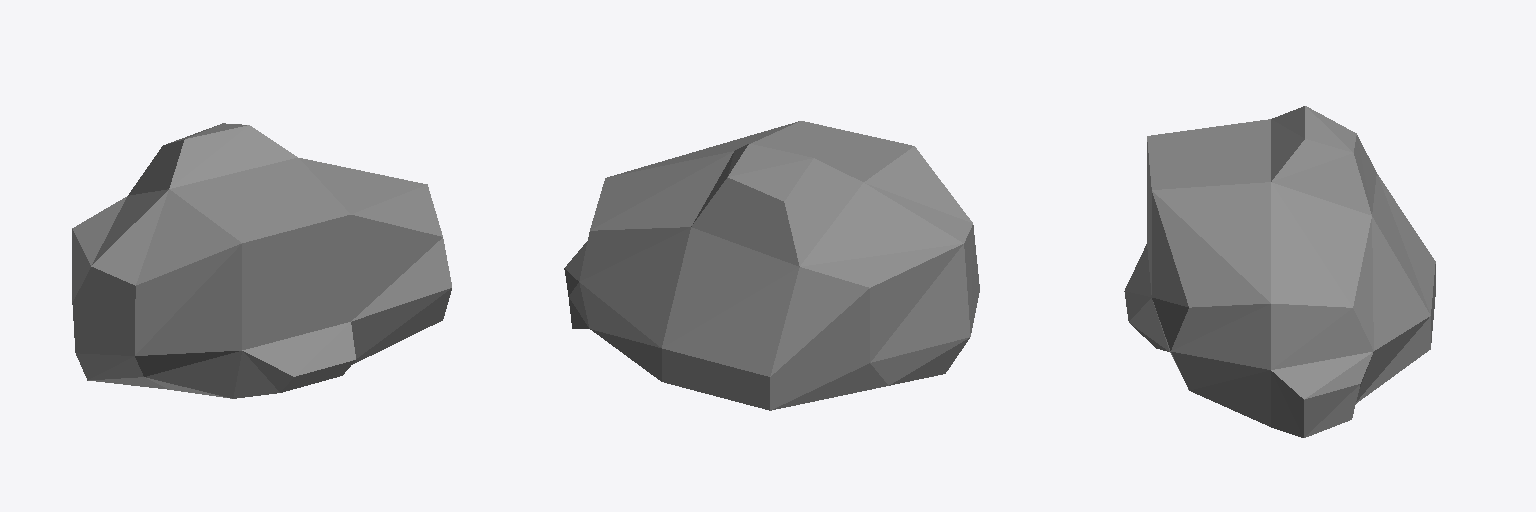
The model's file is asteroid01.obj.
3 renders of one model, left to right at view 1: azimuth 30°, elevation 25°; view 2: azimuth 150°, elevation 25°; view 3: azimuth 270°, elevation 25°, orthographic.
Parts seen in each view (by area): view 1: Box001; view 2: Box001; view 3: Box001.
Part boxes in pixels (x1,y1,x2,y2): Box001: (72,123,451,398); Box001: (564,121,979,410); Box001: (1124,106,1435,437).
Size of the model in its own units: 47.82 by 29.01 by 33.64.